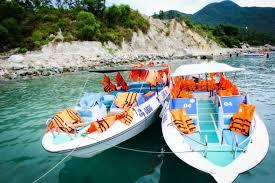Ship: (163, 62, 270, 183), (43, 67, 171, 158)
